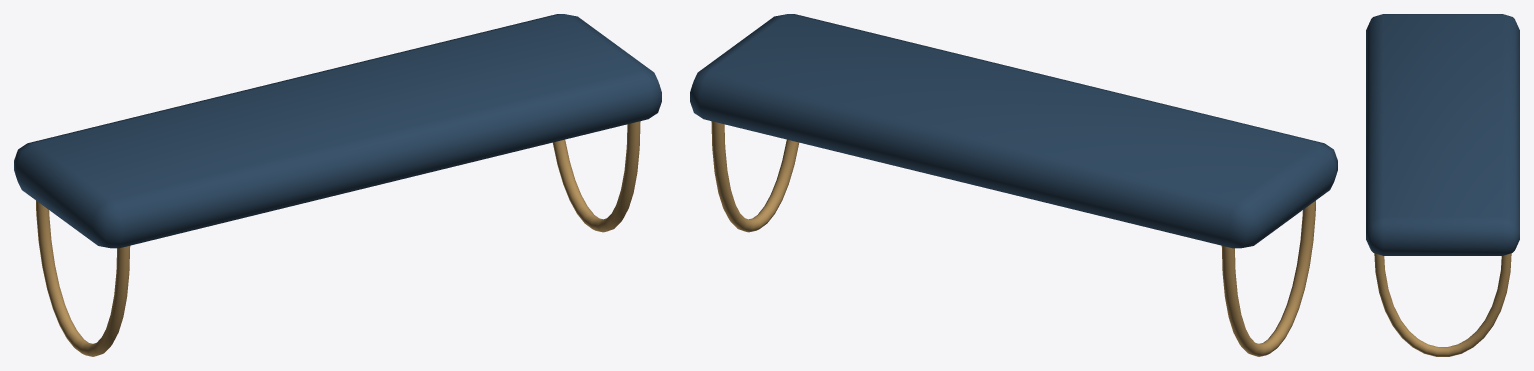
Rendered from i_bench_2.glb.
3 views of the same model, side by side, from view 1: azimuth 30°, elevation 25°; view 2: azimuth 150°, elevation 25°; view 3: azimuth 270°, elevation 25° (orthographic). The views are drawn at different scales.
Visible parts, largest first — view 1: o, o.001, o.002; view 2: o, o.001, o.002; view 3: o, o.002.
Part boxes in pixels (x1,y1,x2,y2): o: [14, 14, 661, 248]; o.001: [36, 200, 130, 356]; o.002: [553, 121, 640, 232]; o: [690, 14, 1337, 248]; o.001: [1221, 200, 1315, 356]; o.002: [711, 121, 798, 232]; o: [1366, 14, 1519, 255]; o.002: [1374, 253, 1511, 356].
Bounding box in the file's own units: 1.2 × 0.3704 × 0.36.
